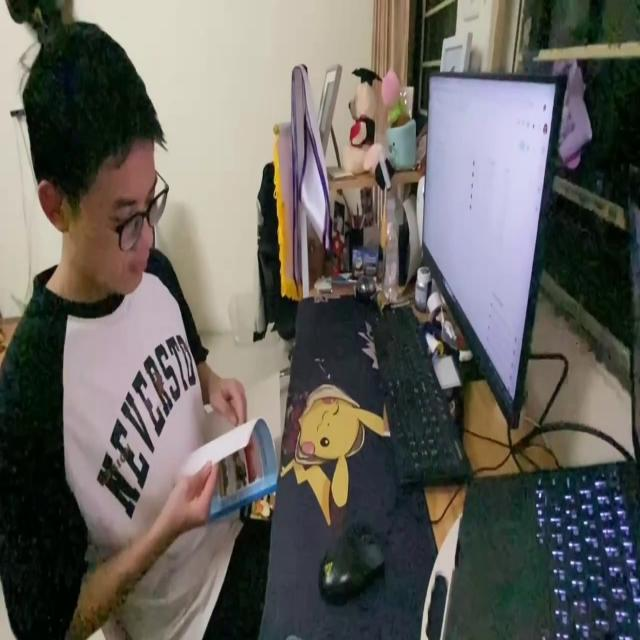book: (173, 367, 290, 513)
laptop: (417, 67, 571, 436), (439, 452, 640, 640)
student: (1, 21, 268, 640)
